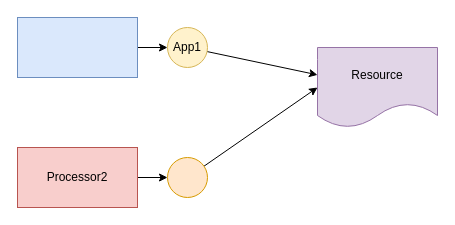
The diagram is 455 pixels wide and 225 high, and some of its shapes have lost their labels. The centre of each missing label's shape, as x and y in pixels:
App2: [187,177]
Processor1: [77,47]
